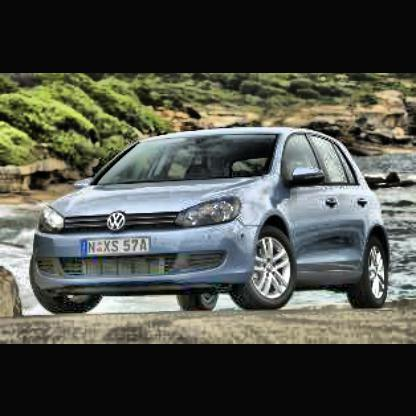Volkswagen Golf Hatchback 2012: (26, 129, 392, 318)
